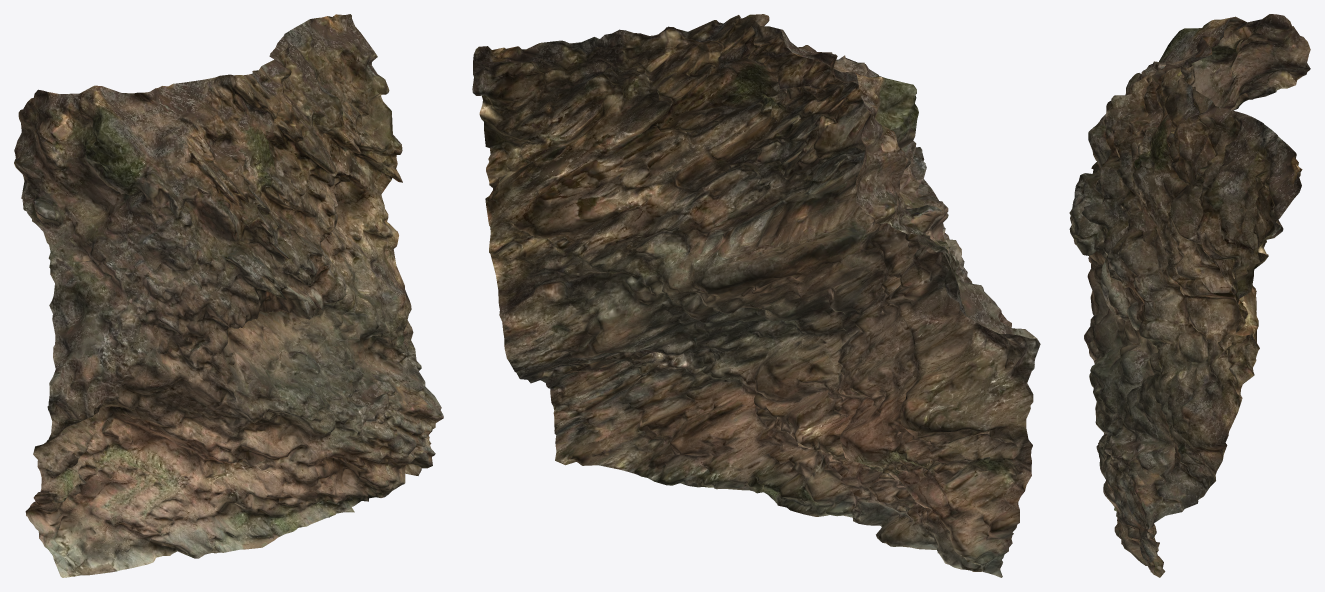
Rendered from mountainside.glb.
3 views of the same model, side by side, from view 1: azimuth 30°, elevation 25°; view 2: azimuth 150°, elevation 25°; view 3: azimuth 270°, elevation 25° (orthographic). The views are drawn at different scales.
Visible parts, largest first — view 1: mountainside; view 2: mountainside; view 3: mountainside.
Boxes of the visible parts, bbox=[...] form: mountainside: bbox=[14, 14, 443, 577]; mountainside: bbox=[472, 14, 1040, 577]; mountainside: bbox=[1069, 14, 1310, 577].
Bounding box in the file's own units: 10.21 × 10.52 × 5.25.
Materials: 1 (1 with a texture image).
